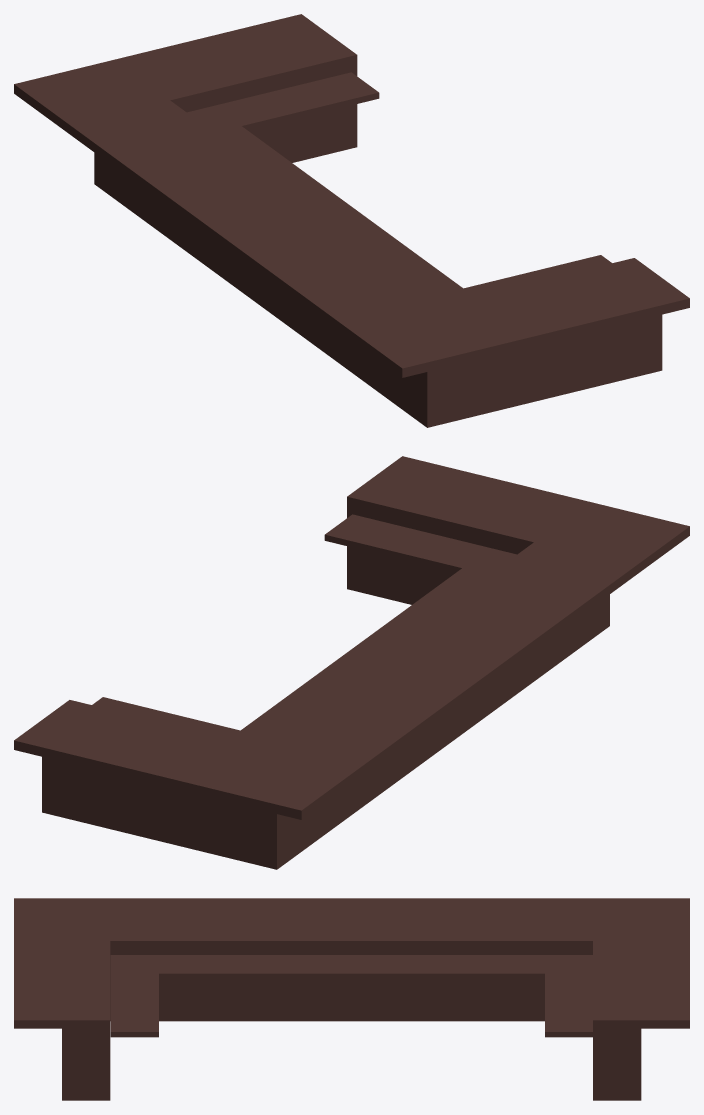
Rendered from cafe_countertop.glb.
3 renders of one model, top to bottom at view 1: azimuth 30°, elevation 25°; view 2: azimuth 150°, elevation 25°; view 3: azimuth 270°, elevation 25°, orthographic. The views are drawn at different scales.
Parts seen in each view (by area): view 1: Cube; view 2: Cube; view 3: Cube.
Part boxes in pixels (box(x1,y1,x2,y2)): Cube: box(14, 14, 689, 427); Cube: box(14, 456, 689, 869); Cube: box(14, 898, 689, 1100).
Size of the model in its own units: 3.25 by 1 by 7.61.
